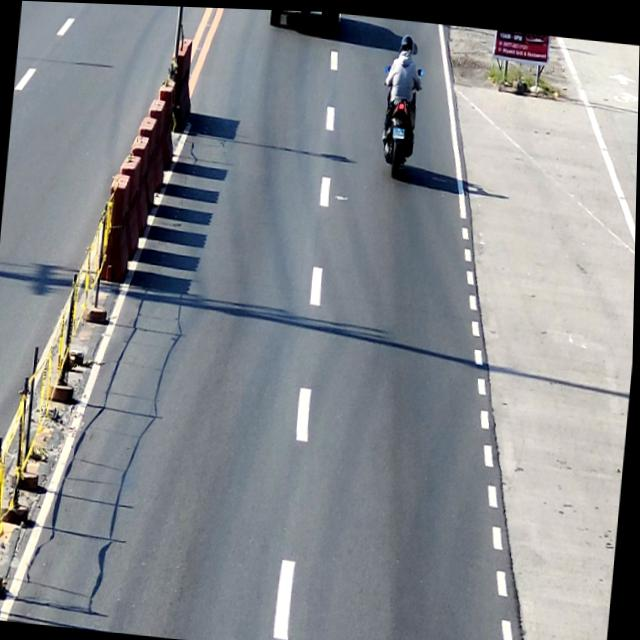License-Plate: (392, 123, 405, 135)
Motorcycle: (376, 58, 425, 175)
